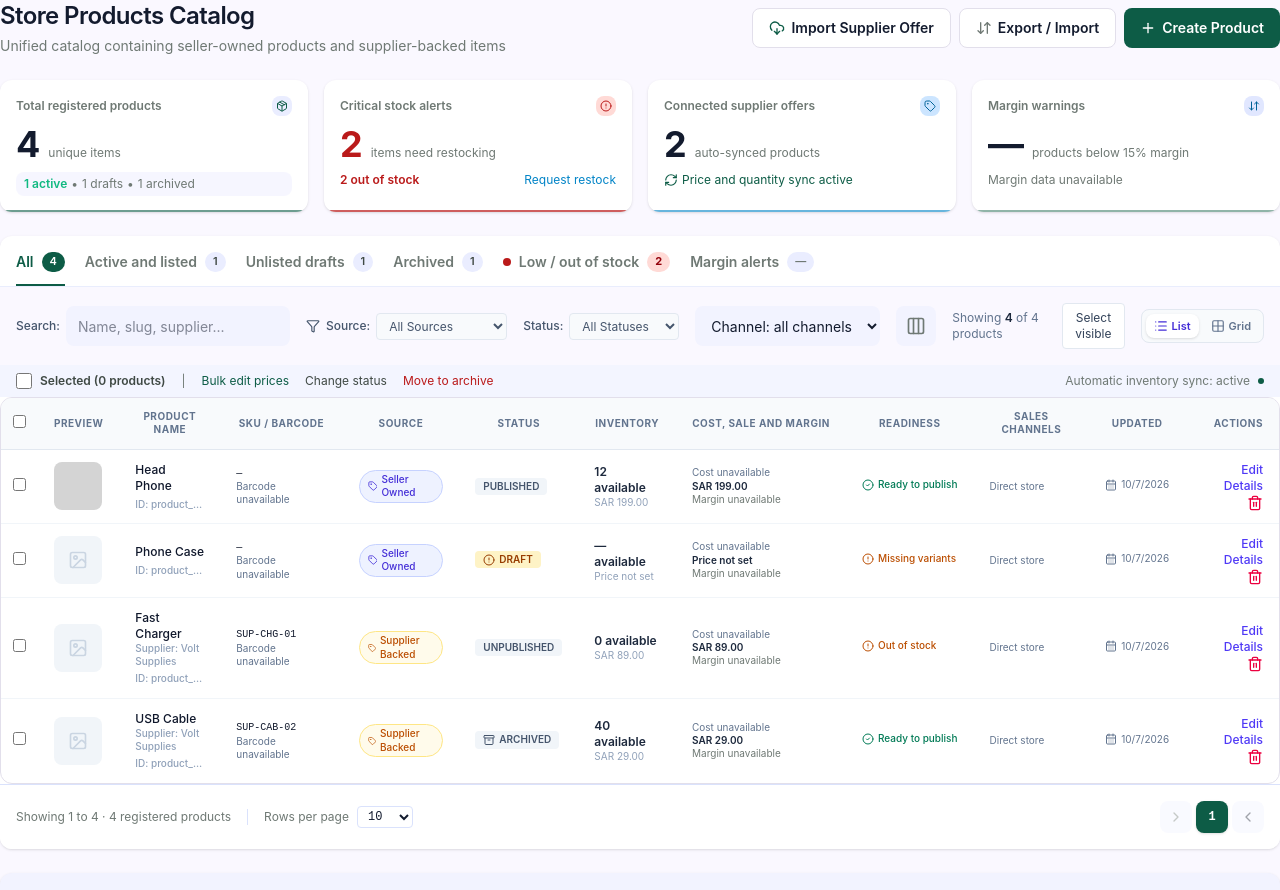
Catalog header and toolbar testids (US1) › searches server-side by name and updates counts
Expected: the link "Head Phone" is shown, [135,462,172,493]
Type "charger" into the search field with test id "product-search" at (178, 326), box [66,306,290,346]
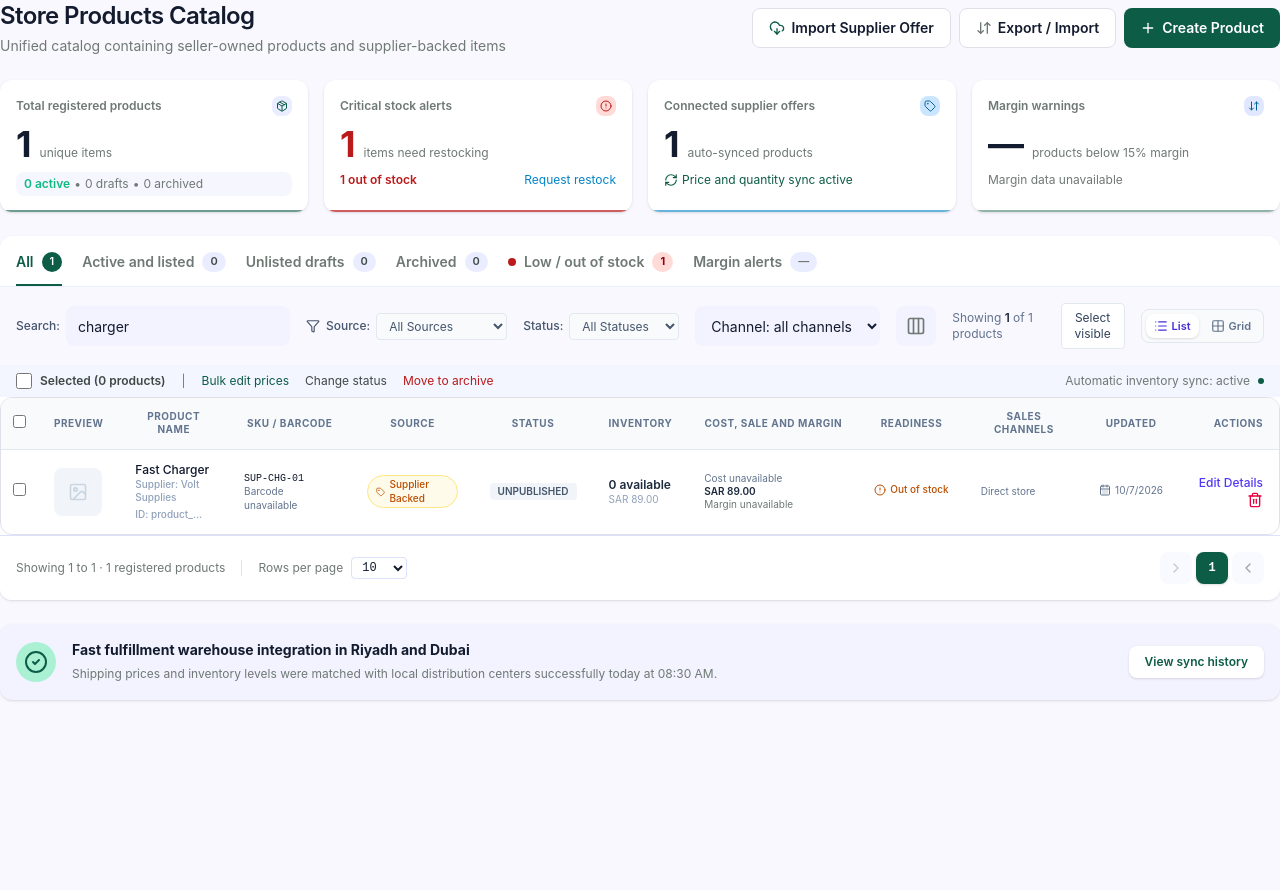
Expected: the link "Fast Charger" is shown, [135,462,209,477]
Result: the link "Head Phone" is gone
